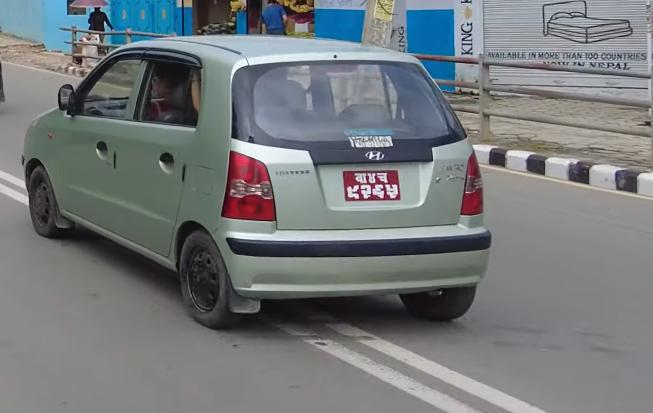car: (26, 24, 504, 334)
